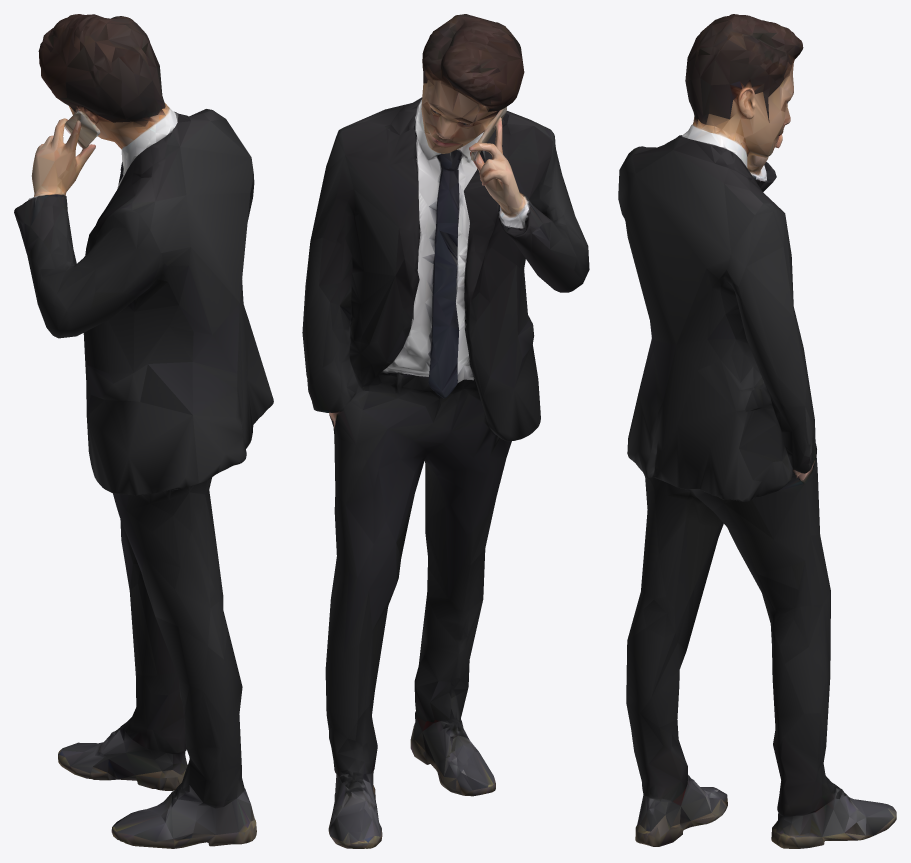
The model's file is ren4.gltf.
The picture shows the model from 3 angles, left to right: view 1: azimuth 30°, elevation 25°; view 2: azimuth 150°, elevation 25°; view 3: azimuth 270°, elevation 25°; orthographic projection. The views are drawn at different scales.
Visible parts, largest first — view 1: Obj3d66-515503-2-856; view 2: Obj3d66-515503-2-856; view 3: Obj3d66-515503-2-856.
Part boxes in pixels (x1,y1,x2,y2): Obj3d66-515503-2-856: [14, 14, 273, 848]; Obj3d66-515503-2-856: [302, 14, 589, 848]; Obj3d66-515503-2-856: [618, 14, 896, 848].
Size of the model in its own units: 5.9 by 18.16 by 5.87.
1 material, 1 textured.
